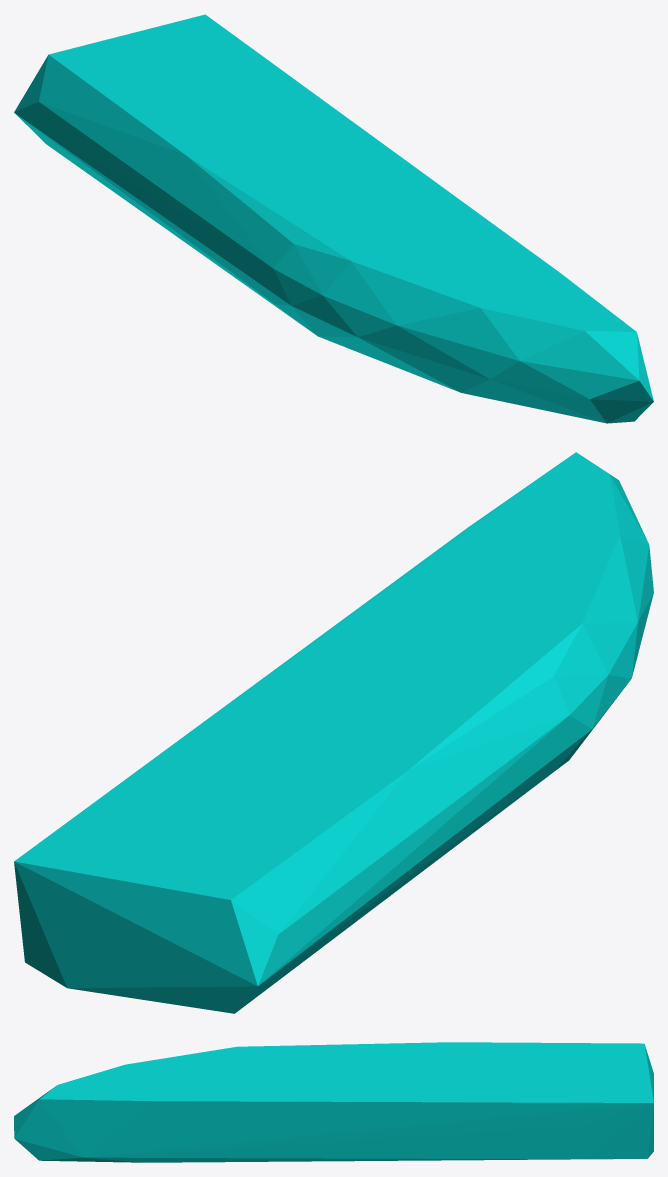
Rendered from model3_convex_piece_006.obj.
3 views of the same model, one above another, from view 1: azimuth 30°, elevation 25°; view 2: azimuth 150°, elevation 25°; view 3: azimuth 270°, elevation 25° (orthographic). The views are drawn at different scales.
Bounding box in the file's own units: 0.016 × 0.00768 × 0.066.
